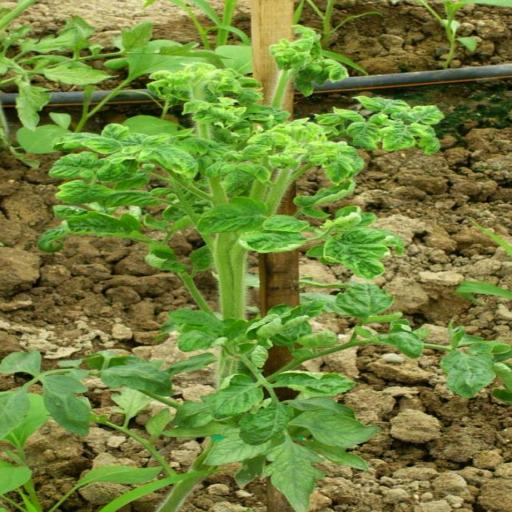Yellow Leaf Curl Virus: (197, 371, 263, 421), (320, 237, 394, 278), (137, 132, 199, 180), (196, 196, 268, 234), (57, 210, 143, 238), (275, 368, 357, 396), (294, 180, 356, 206), (318, 204, 378, 230), (237, 230, 307, 252), (54, 180, 110, 206), (48, 151, 98, 179), (192, 104, 248, 128), (98, 190, 162, 209), (351, 96, 410, 116), (378, 120, 415, 151), (345, 122, 382, 152), (410, 122, 442, 154), (260, 214, 312, 232), (408, 103, 446, 125), (324, 160, 356, 186), (78, 137, 122, 155), (320, 58, 350, 84), (233, 144, 272, 162), (102, 123, 132, 144), (332, 106, 366, 122), (300, 204, 332, 220)
